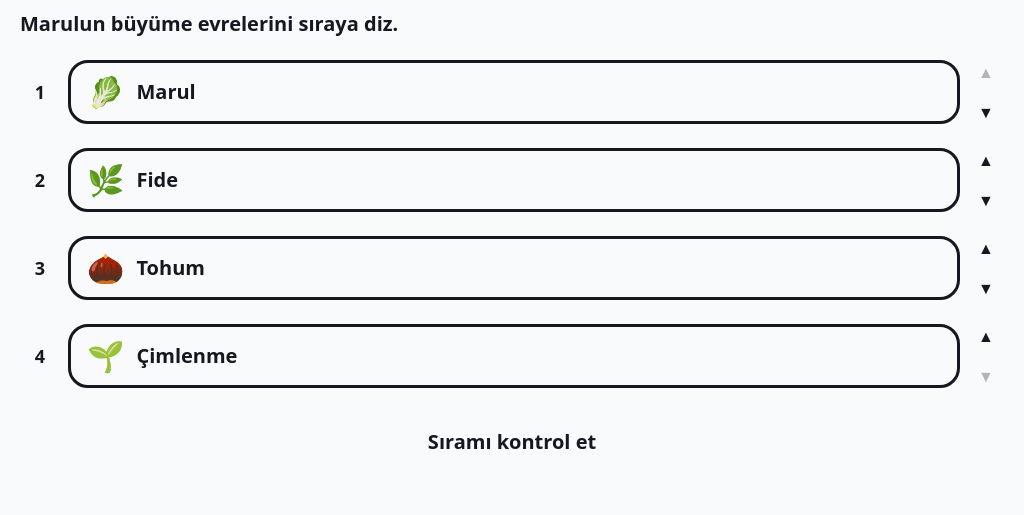
player blocks (Blok Vitrini) › sequence: reorders with the move buttons and checks the order
Click the 3rd button "▲" at point(986, 248), box [968, 230, 1004, 266]
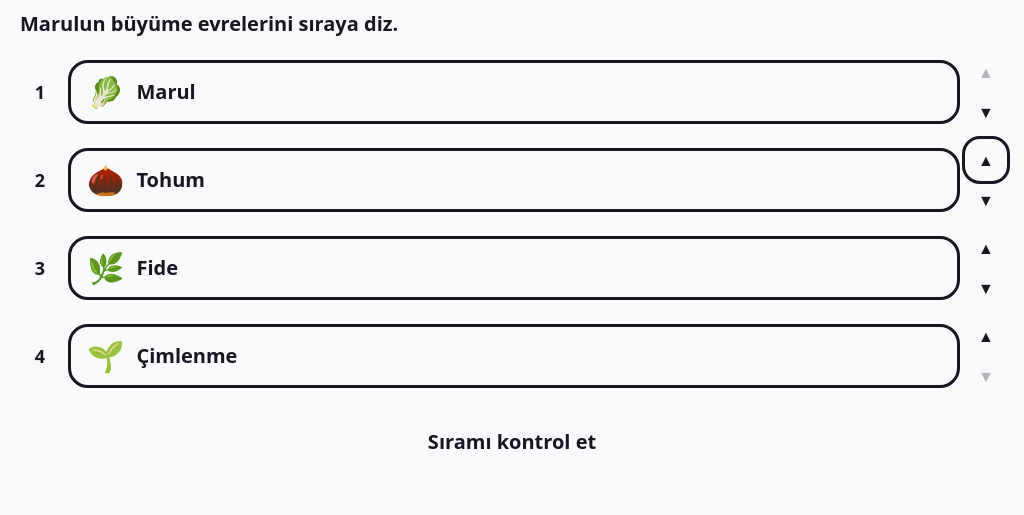
Click the 2nd button "▲" at point(986, 160), box [968, 142, 1004, 178]
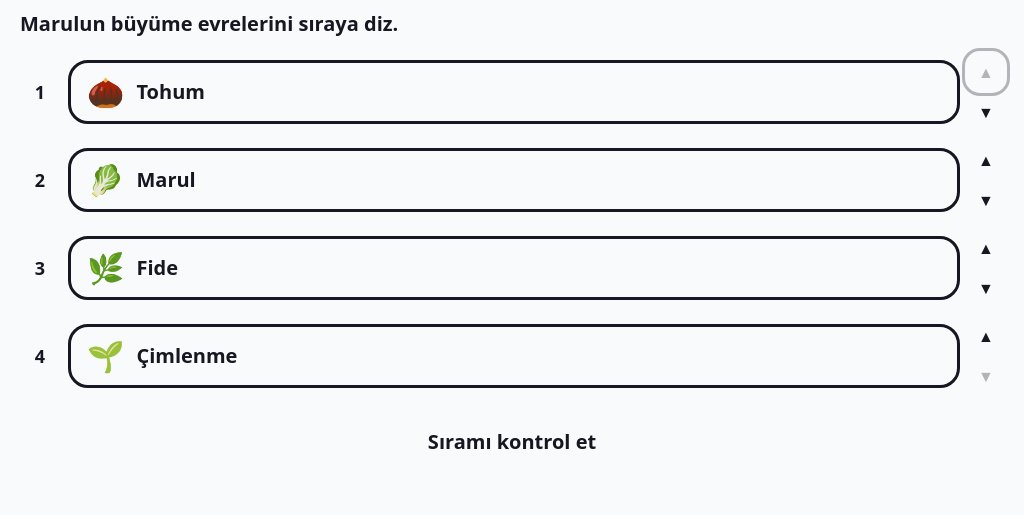
Click the 4th button "▲" at point(986, 336), box [968, 318, 1004, 354]
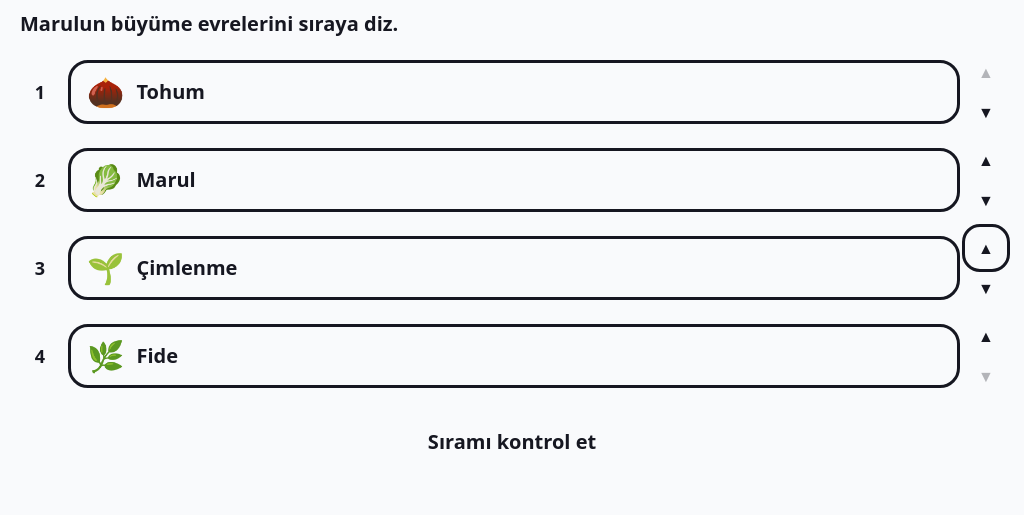
Click the 3rd button "▲" at point(986, 248), box [968, 230, 1004, 266]
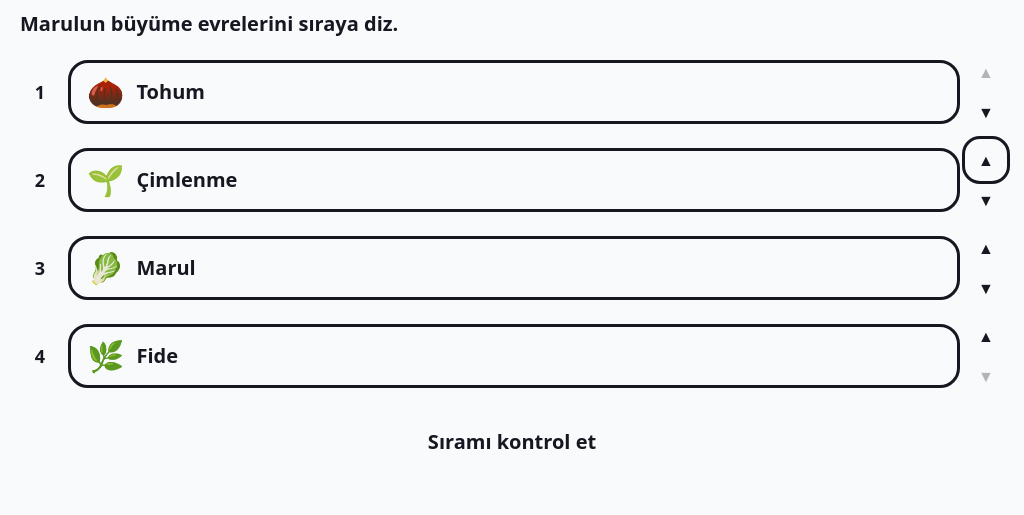
Click the 4th button "▲" at point(986, 336), box [968, 318, 1004, 354]
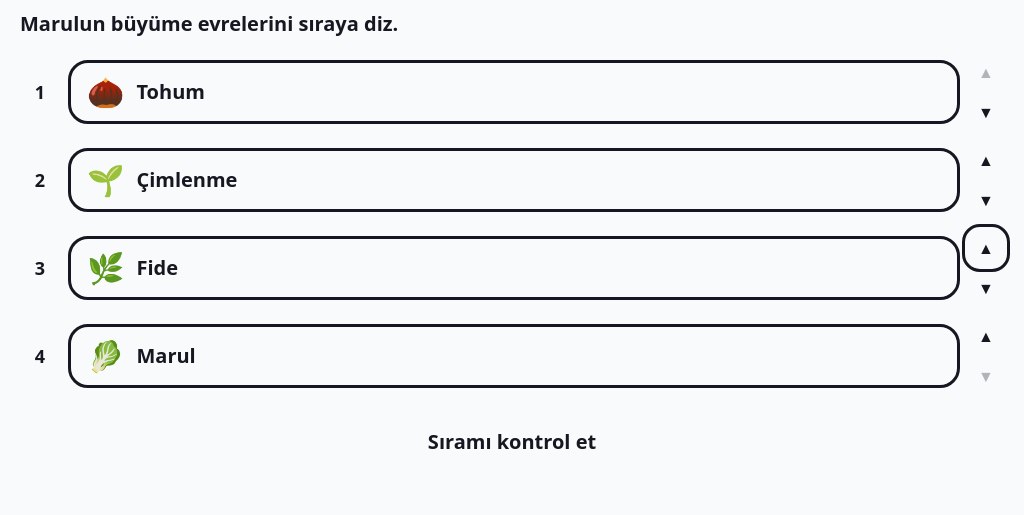
Click the button "Sıramı kontrol et" at point(512, 442), box [20, 410, 1004, 474]
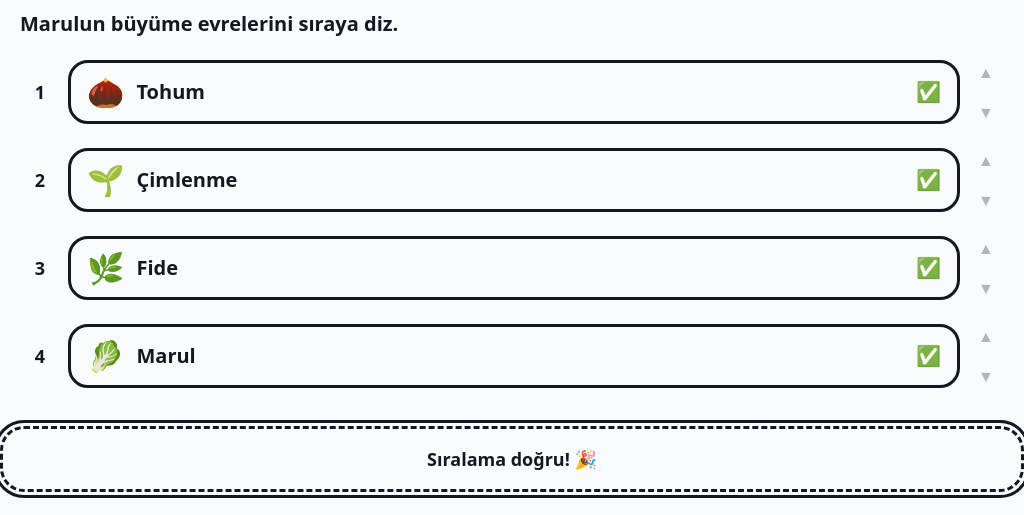
Now the button "Sıramı kontrol et" is gone
